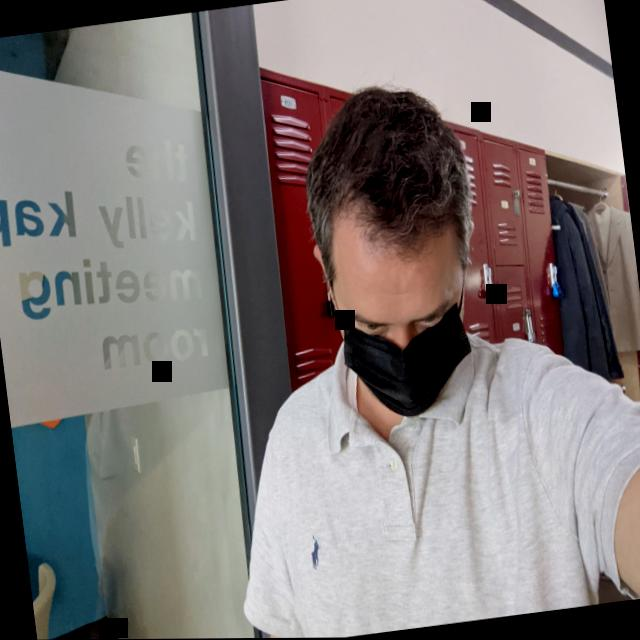Mask: (316, 171, 488, 426)
